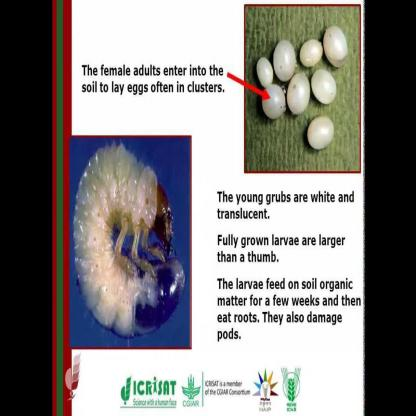root grubs: (73, 144, 185, 338)
